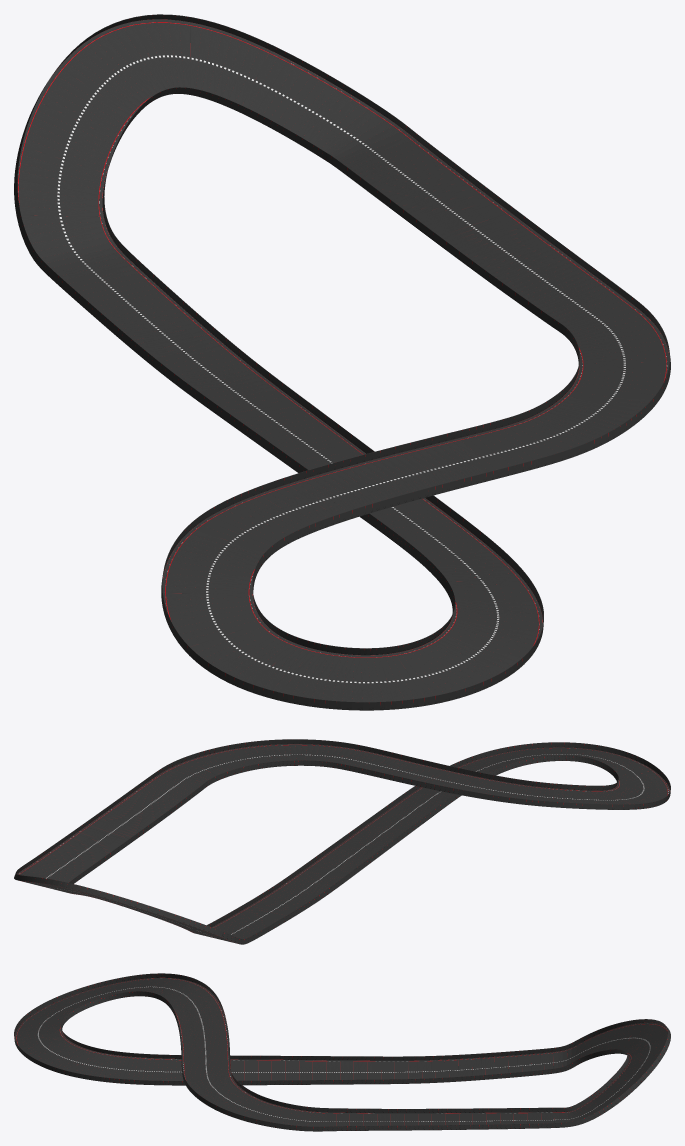
Rendered from road2.fbx.
3 renders of one model, top to bottom at view 1: azimuth 30°, elevation 25°; view 2: azimuth 150°, elevation 25°; view 3: azimuth 270°, elevation 25°, orthographic. The views are drawn at different scales.
Visible parts, largest first — view 1: Плоскость.001; view 2: Плоскость.001; view 3: Плоскость.001.
Part boxes in pixels (x1,y1,x2,y2): Плоскость.001: (14, 14, 670, 710); Плоскость.001: (14, 739, 670, 944); Плоскость.001: (14, 973, 670, 1131).
Size of the model in its own units: 8230 by 1904 by 13594.
